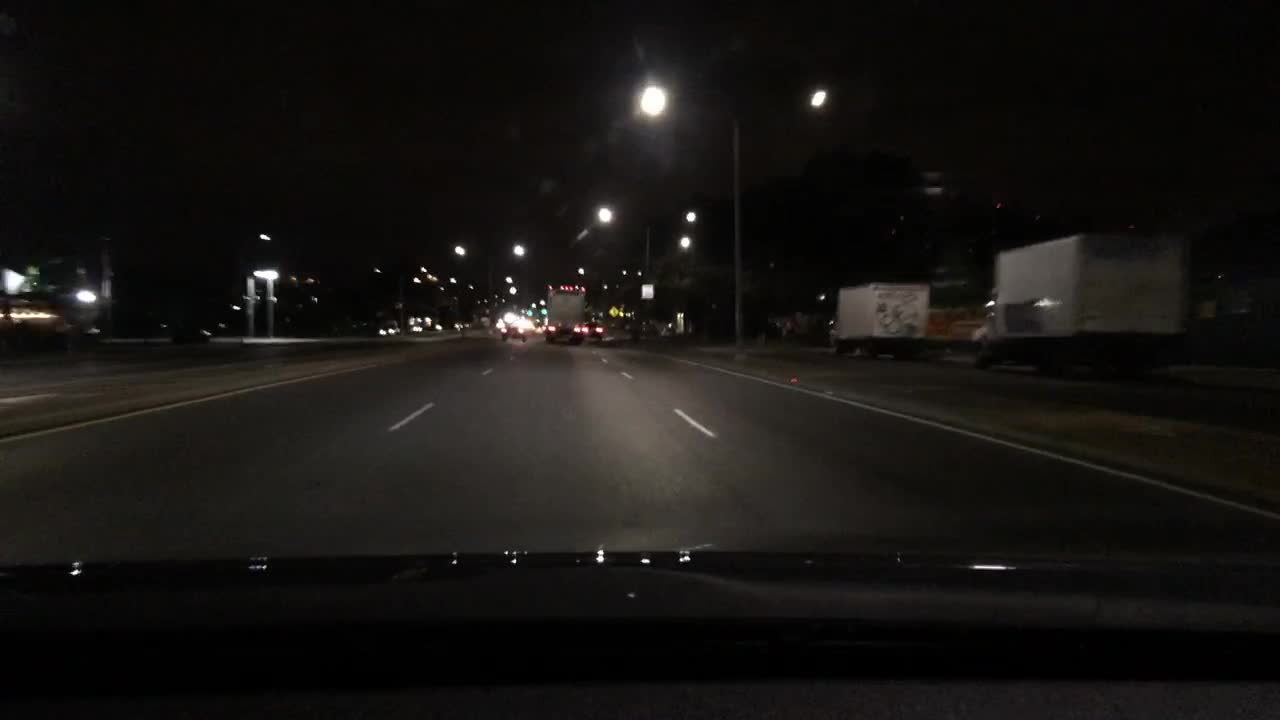car: (945, 316, 987, 338), (500, 318, 528, 342), (176, 326, 211, 345), (377, 318, 397, 336), (529, 317, 548, 333), (586, 320, 602, 338), (406, 322, 422, 334)
traffic sign: (640, 284, 655, 300), (607, 305, 620, 317)
truck: (968, 225, 1188, 372), (826, 280, 931, 360), (543, 283, 586, 346)
